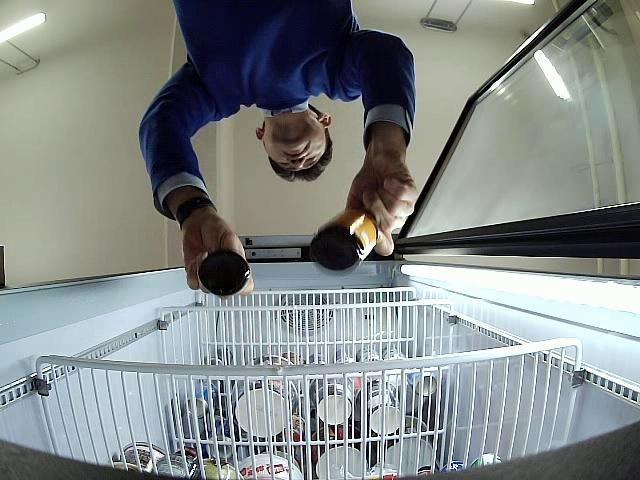17_vita500: (312, 207, 379, 276), (197, 253, 250, 296)
